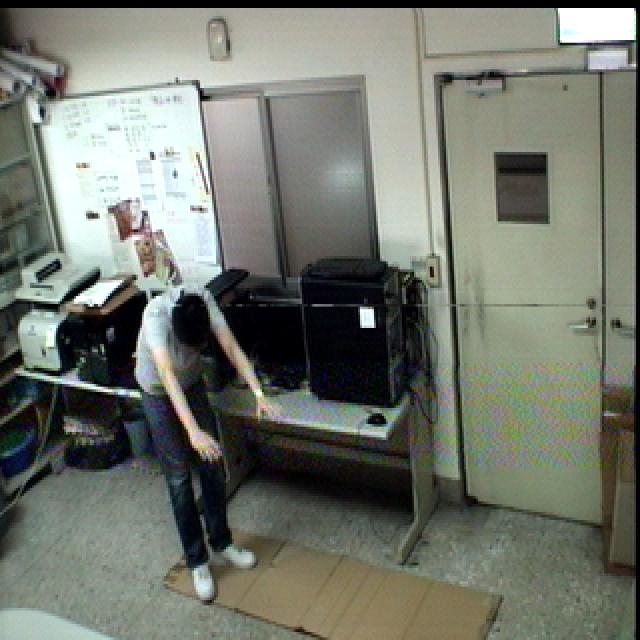bend: (126, 279, 288, 609)
